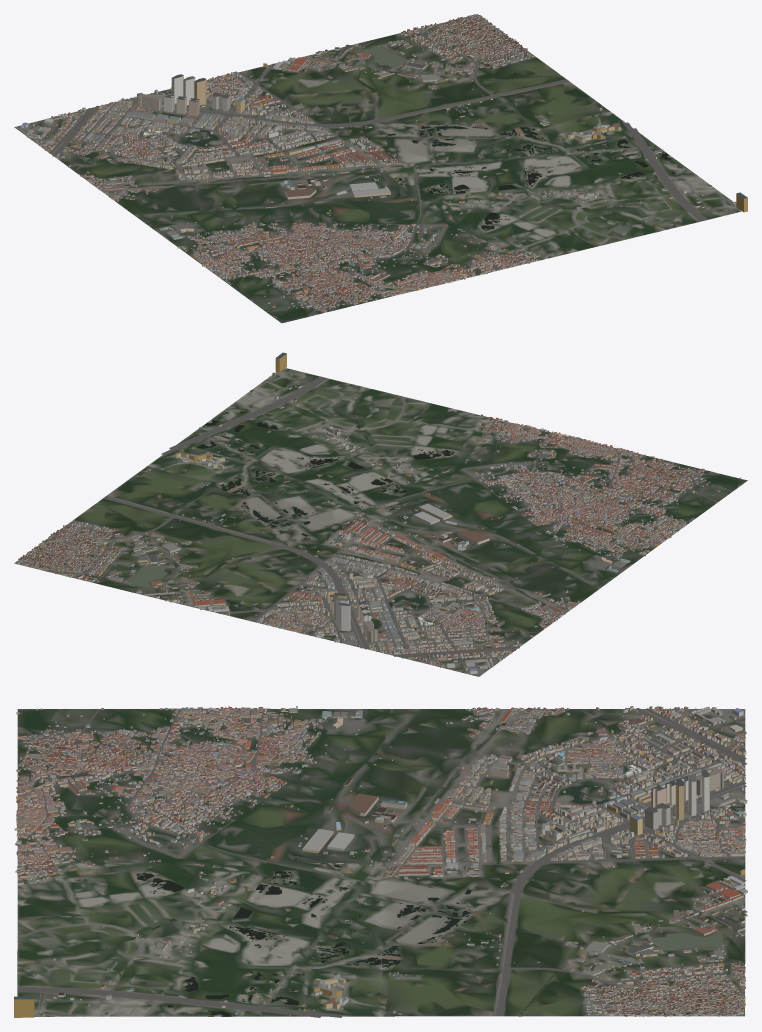
3 views of the same model, one above another, from view 1: azimuth 30°, elevation 25°; view 2: azimuth 150°, elevation 25°; view 3: azimuth 270°, elevation 25° (orthographic). The views are drawn at different scales.
Parts seen in each view (by area): view 1: ground, buildings, roads, water; view 2: ground, buildings, roads, water; view 3: ground, buildings, roads, water.
Part boxes in pixels (<box>): ground: <box>14,14,741,323</box>; buildings: <box>21,14,747,321</box>; roads: <box>30,15,740,311</box>; water: <box>30,46,675,230</box>; ground: <box>14,368,747,676</box>; buildings: <box>18,352,741,674</box>; roads: <box>16,368,731,664</box>; water: <box>100,387,474,606</box>; ground: <box>17,708,745,1016</box>; buildings: <box>14,706,747,1017</box>; roads: <box>17,708,747,1017</box>; water: <box>24,716,731,1016</box>.
Size of the model in its own units: 2825 by 151 by 2828.
